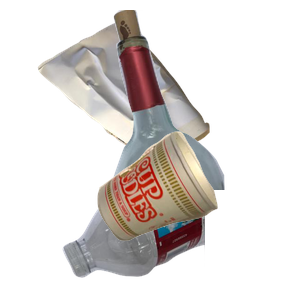glass: (89, 10, 300, 190)
paper: (35, 10, 237, 178)
plastic: (60, 190, 300, 280)
trash: (95, 129, 300, 300)
